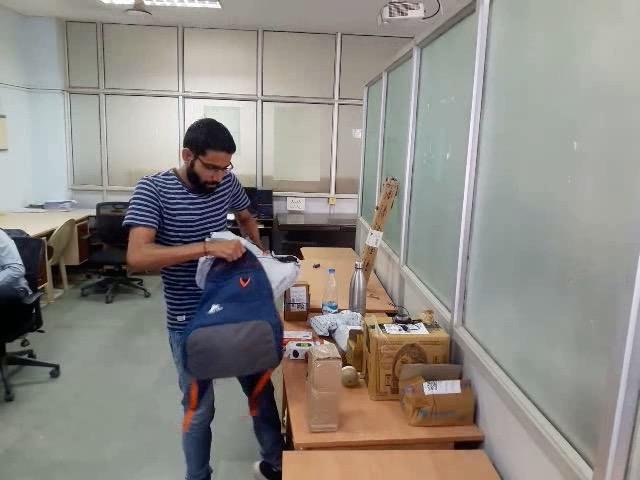shoplifting: (169, 227, 310, 386)
